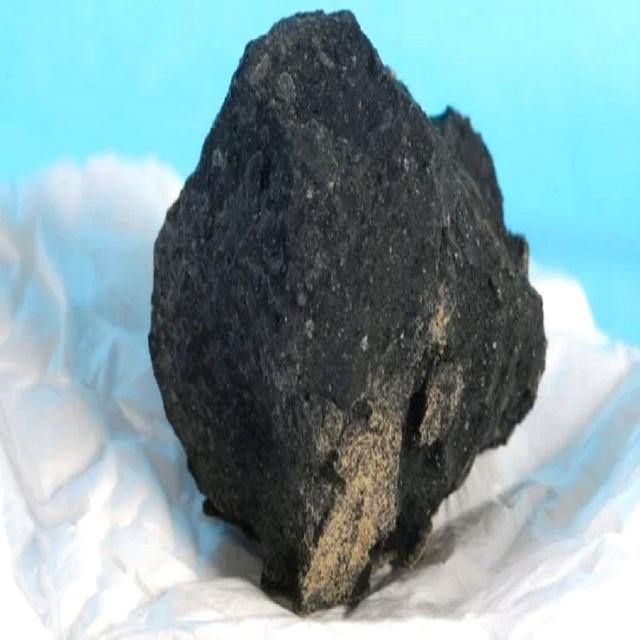Pecahan Agregat: (137, 13, 560, 592)
